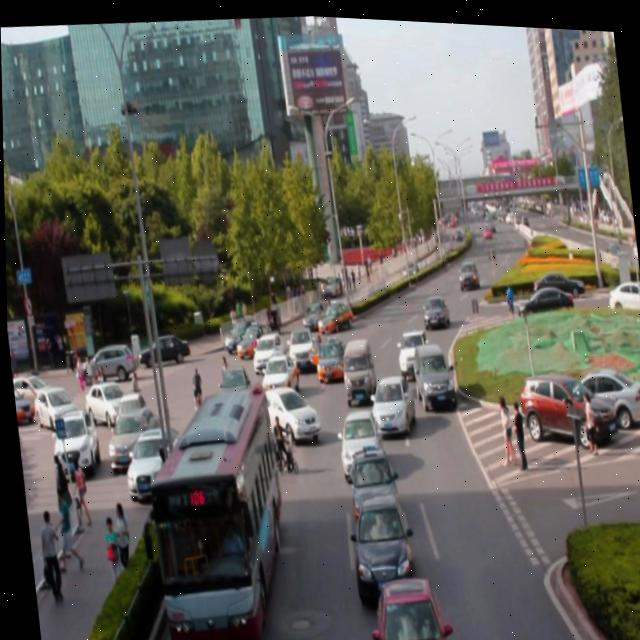car: (347, 487, 414, 594), (368, 567, 443, 640), (345, 440, 399, 524), (333, 401, 384, 479), (255, 378, 318, 439), (366, 369, 414, 437), (409, 336, 453, 405), (258, 345, 303, 394), (312, 324, 352, 376), (211, 360, 249, 413), (281, 318, 317, 373), (248, 327, 285, 374), (316, 287, 356, 328), (393, 322, 427, 370), (419, 288, 447, 325)
truck: (338, 332, 375, 398)
van: (137, 378, 288, 640)
